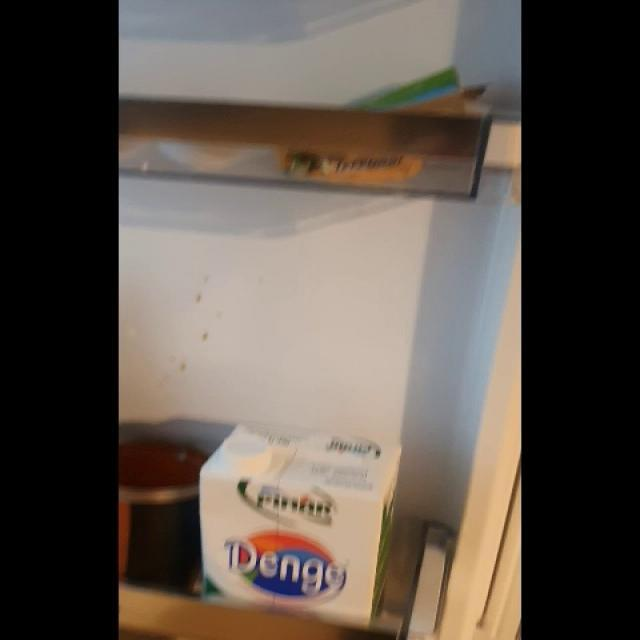milk: (196, 424, 403, 620)
